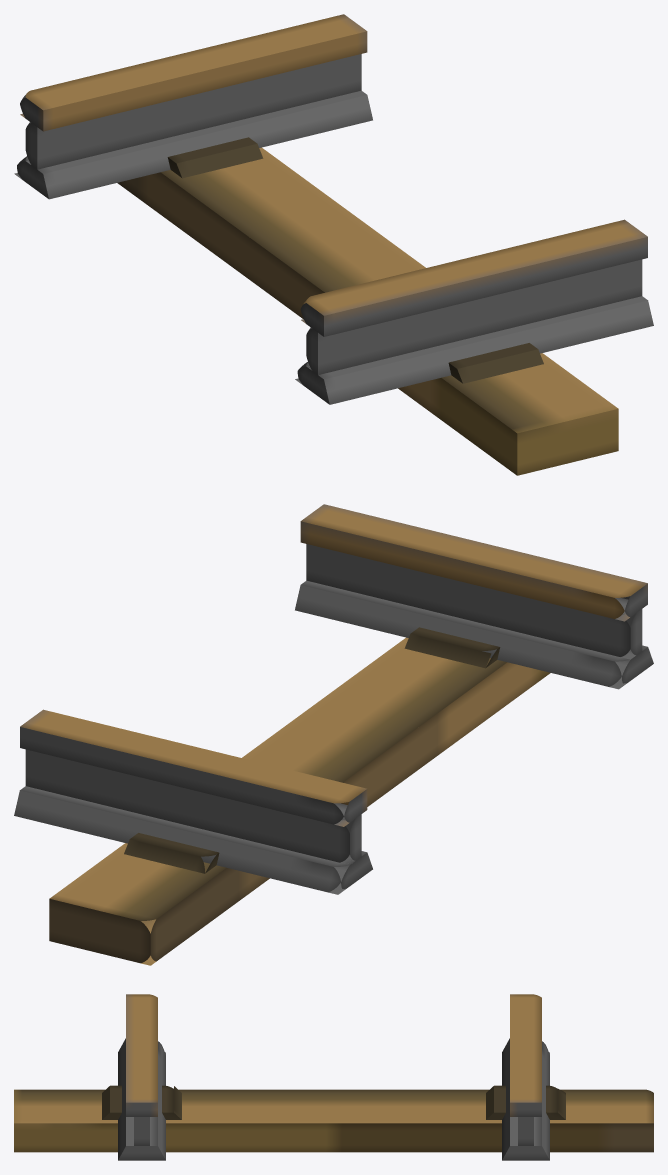
File: wood_track.obj
3 renders of one model, top to bottom at view 1: azimuth 30°, elevation 25°; view 2: azimuth 150°, elevation 25°; view 3: azimuth 270°, elevation 25°, orthographic. The views are drawn at different scales.
Visible parts, largest first — view 1: RAIL_BASE, RAIL_RIGHT, RAIL_LEFT; view 2: RAIL_BASE, RAIL_RIGHT, RAIL_LEFT; view 3: RAIL_BASE, RAIL_RIGHT, RAIL_LEFT.
Boxes of the visible parts, x1=… form: RAIL_BASE: x1=117, y1=137, x2=618, y2=475; RAIL_RIGHT: x1=14, y1=14, x2=372, y2=199; RAIL_LEFT: x1=295, y1=219, x2=653, y2=404; RAIL_BASE: x1=49, y1=627, x2=550, y2=965; RAIL_RIGHT: x1=14, y1=709, x2=372, y2=894; RAIL_LEFT: x1=295, y1=504, x2=653, y2=689; RAIL_BASE: x1=14, y1=1085, x2=653, y2=1152; RAIL_RIGHT: x1=502, y1=994, x2=549, y2=1160; RAIL_LEFT: x1=118, y1=994, x2=165, y2=1160.
Size of the model in its own units: 1 by 0.375 by 2.5.
1 material, 1 textured.
